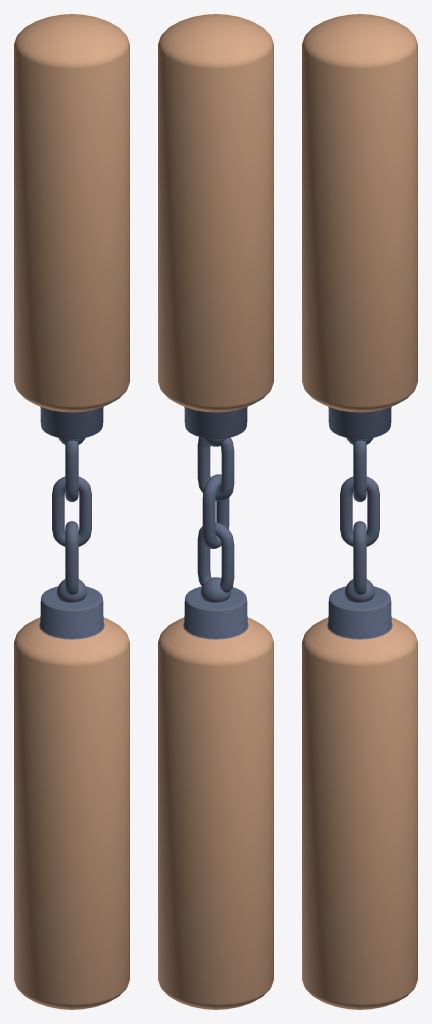
The model's file is Nunchaku.fbx.
3 views of the same model, side by side, from view 1: azimuth 90°, elevation 25°; view 2: azimuth 150°, elevation 25°; view 3: azimuth 270°, elevation 25° (orthographic).
Visible parts, largest first — view 1: Nunchaku; view 2: Nunchaku; view 3: Nunchaku.
Part boxes in pixels (x1,y1,x2,y2): Nunchaku: (14, 14, 129, 1009); Nunchaku: (158, 14, 273, 1009); Nunchaku: (302, 14, 417, 1009).
Bounding box in the file's own units: 26.15 × 243 × 26.15.
